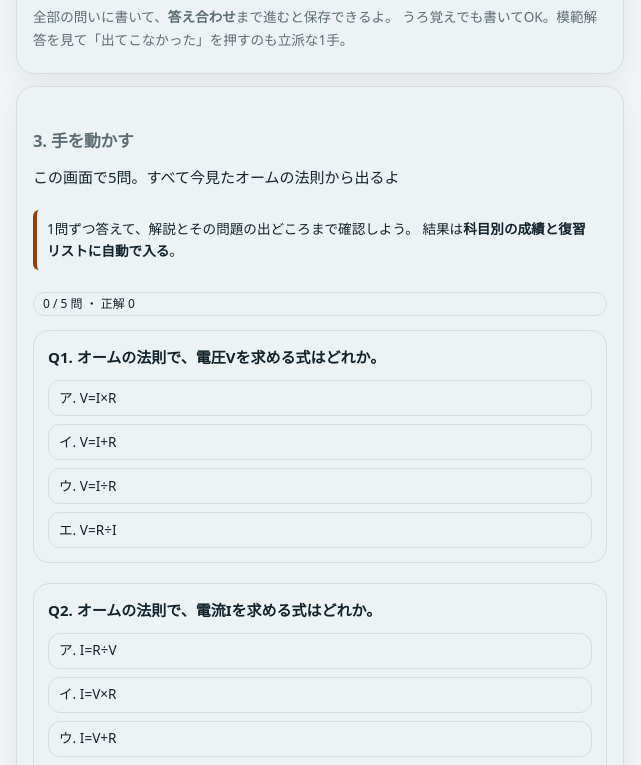
Scenario: 手を動かす(アプリ内出題) › 今日見た内容から出て、選んだ直後に正誤と解説と出どころが出る
(page scrolled)
Expected: the element showing "Q1. オームの法則で、電圧Vを求める式はどれか。" is shown, [48,347,385,367]
Click the button "ア. V=I×R": (98, 397) [48,380,592,416]
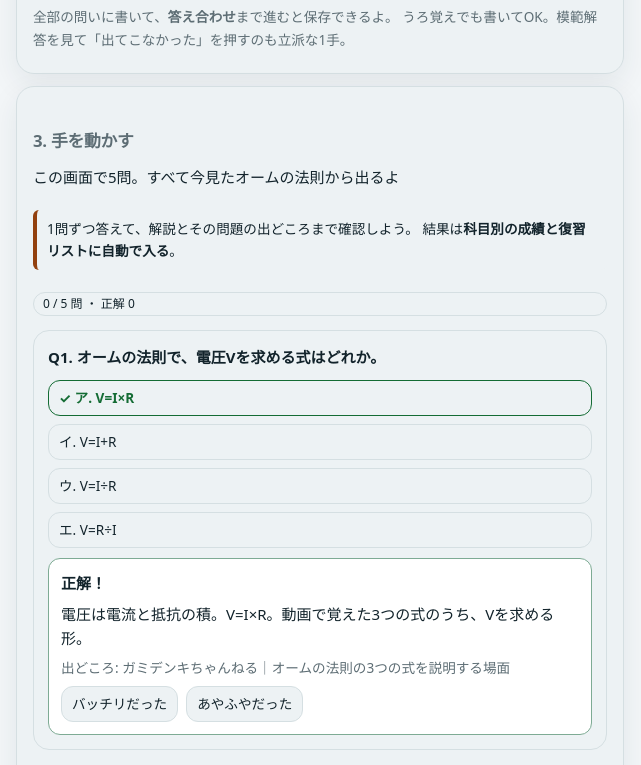
Now the text "正解！" is shown, box [61,573,106,593]
Now the text "電圧は電流と抵抗の積。V=I×R。動画で覚えた3つの式のうち、Vを求める形。" is shown, box [61,602,579,651]
Now the text "出どころ: ガミデンキちゃんねる｜オームの法則の3つの式を説明する場面" is shown, box [61,657,579,680]
